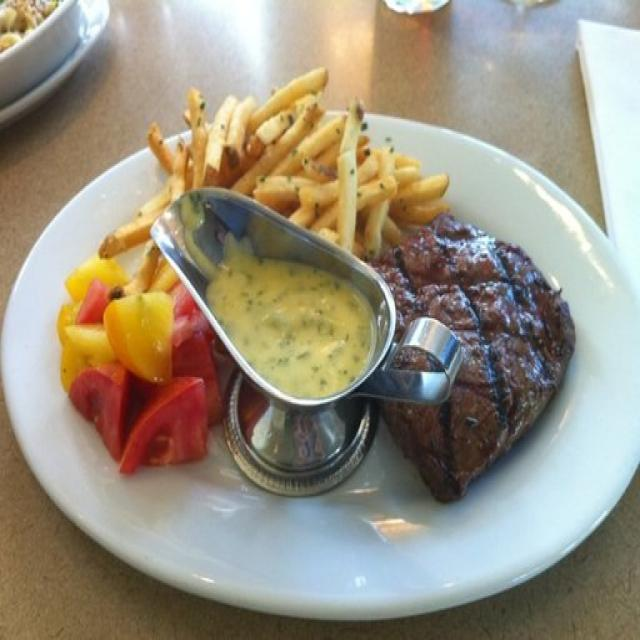French fries: (174, 91, 455, 231)
Steak: (378, 218, 560, 496)
